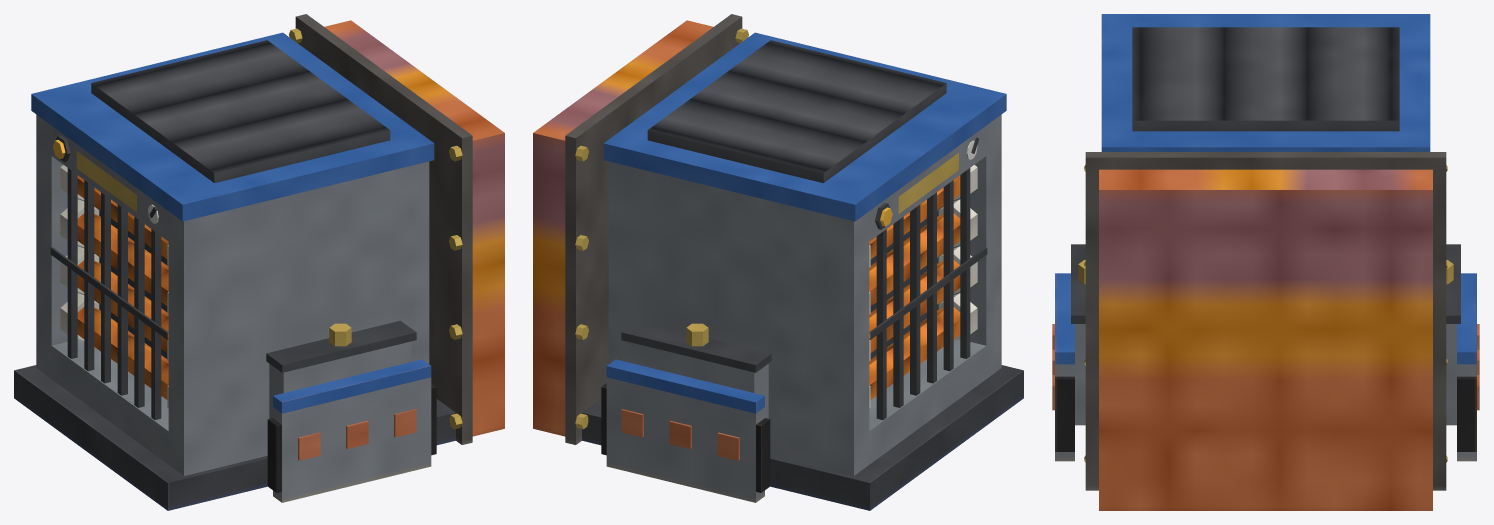
File: electricheater200v.obj
The picture shows the model from 3 angles, left to right: view 1: azimuth 30°, elevation 25°; view 2: azimuth 150°, elevation 25°; view 3: azimuth 270°, elevation 25°; orthographic projection. The views are drawn at different scales.
Visible parts, largest first — view 1: main; view 2: main; view 3: main.
Part boxes in pixels (bbox=[...]): main: bbox=[14, 14, 504, 510]; main: bbox=[533, 14, 1023, 510]; main: bbox=[1052, 14, 1479, 510].
Size of the model in its own units: 0.9875 by 0.8719 by 1.
Materials: 1 (1 with a texture image).
